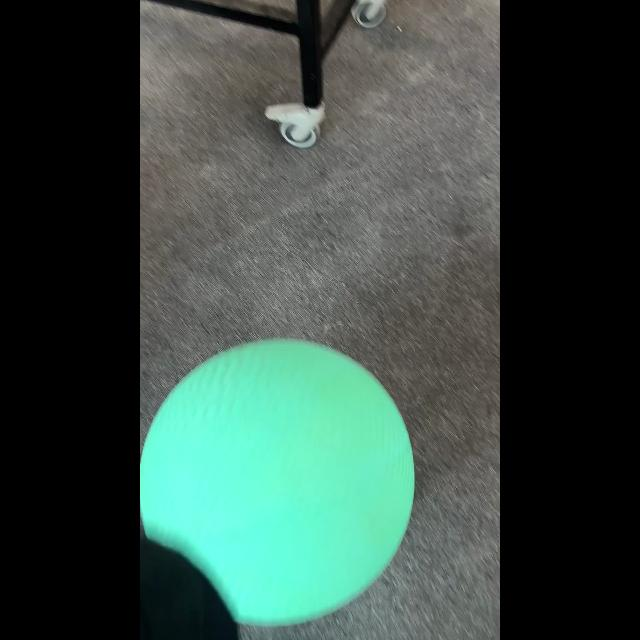ALGAE: (140, 338, 416, 626)
